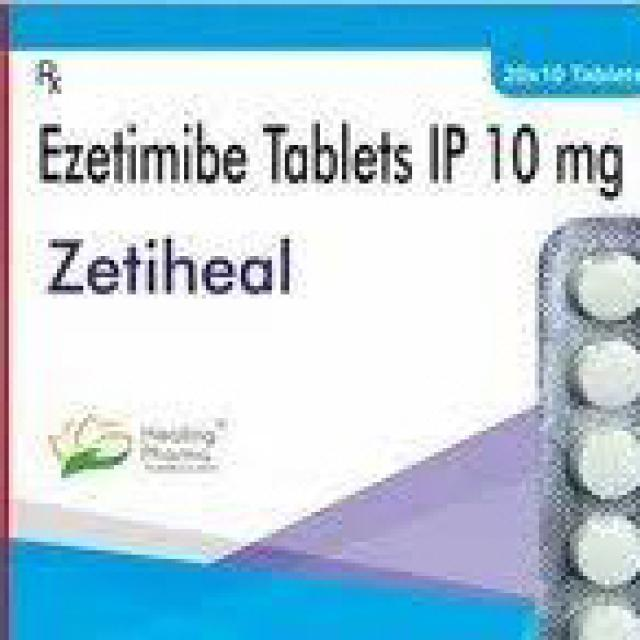drug-name: (42, 224, 294, 300)
